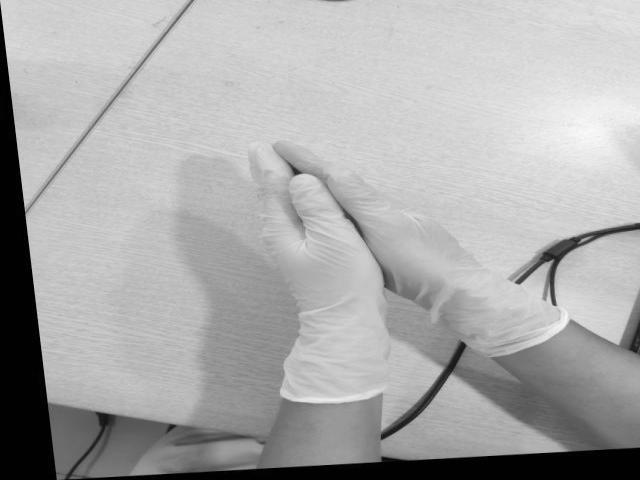gloved: (276, 137, 509, 303), (243, 142, 386, 347)
